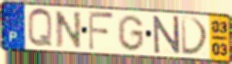D: (180, 15, 211, 56)
F: (87, 10, 116, 53)
G: (116, 14, 145, 53)
N: (152, 15, 182, 56), (54, 10, 83, 50)
Q: (26, 7, 55, 50)
